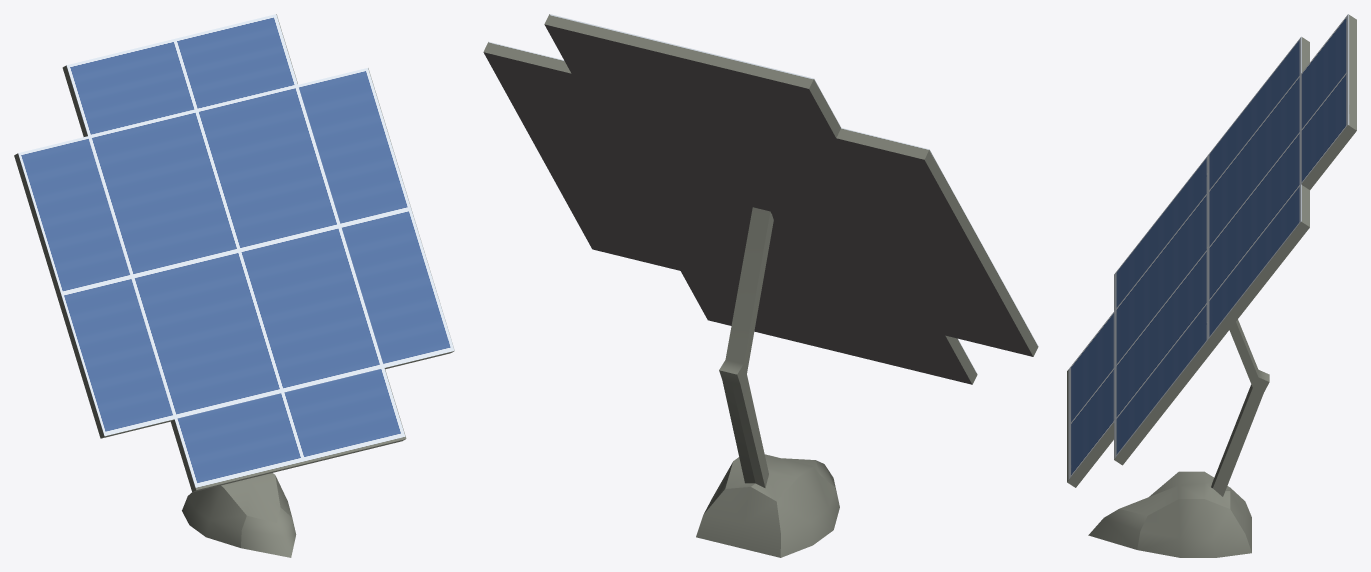
Rendered from solar.fbx.
3 renders of one model, left to right at view 1: azimuth 30°, elevation 25°; view 2: azimuth 150°, elevation 25°; view 3: azimuth 270°, elevation 25°, orthographic. The views are drawn at different scales.
Visible parts, largest first — view 1: resourbuildes_and:resourbuildes_and:resourbuildes_and:resour; view 2: resourbuildes_and:resourbuildes_and:resourbuildes_and:resour; view 3: resourbuildes_and:resourbuildes_and:resourbuildes_and:resour.
Boxes of the visible parts, left/top/right/bottom form: resourbuildes_and:resourbuildes_and:resourbuildes_and:resour: left=14, top=14, right=454, bottom=557; resourbuildes_and:resourbuildes_and:resourbuildes_and:resour: left=483, top=14, right=1038, bottom=557; resourbuildes_and:resourbuildes_and:resourbuildes_and:resour: left=1067, top=14, right=1356, bottom=557.
Size of the model in its own units: 5.43 by 6.37 by 3.59.
